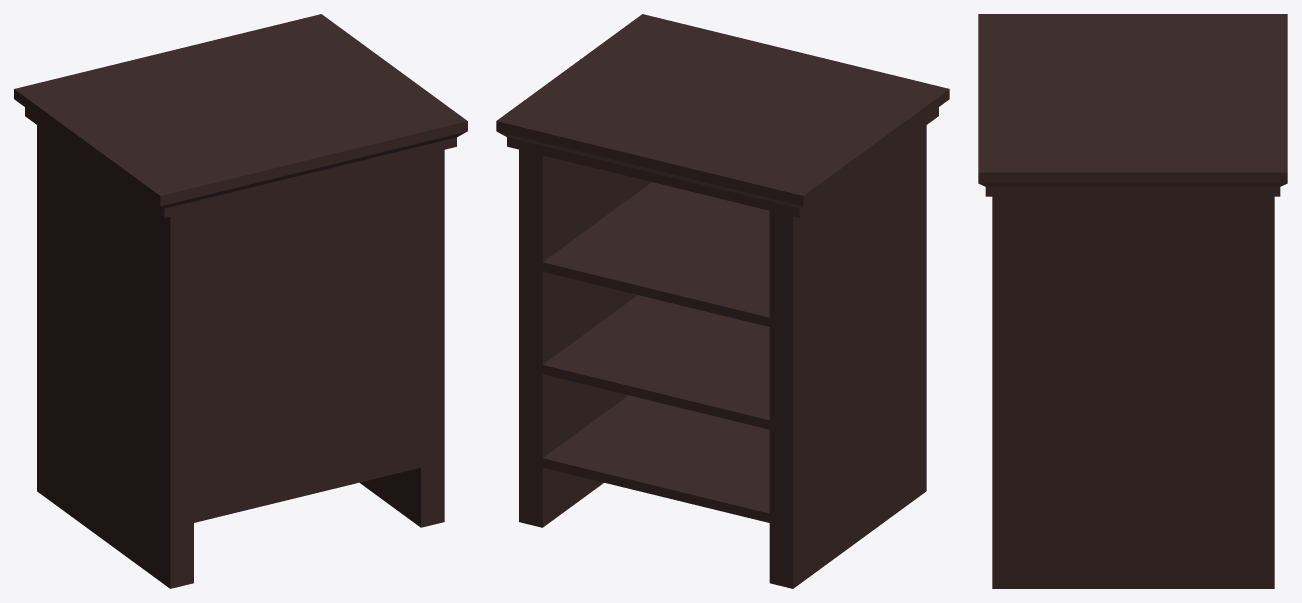
File: Night stand.FBX
3 renders of one model, left to right at view 1: azimuth 30°, elevation 25°; view 2: azimuth 150°, elevation 25°; view 3: azimuth 270°, elevation 25°, orthographic. The views are drawn at different scales.
Visible parts, largest first — view 1: Night stand; view 2: Night stand; view 3: Night stand.
Boxes of the visible parts, box(x1,y1,x2,y2) form: Night stand: box(14, 14, 467, 588); Night stand: box(496, 14, 949, 588); Night stand: box(978, 14, 1287, 588).
Bounding box in the file's own units: 0.8136 × 1.02 × 0.671.
